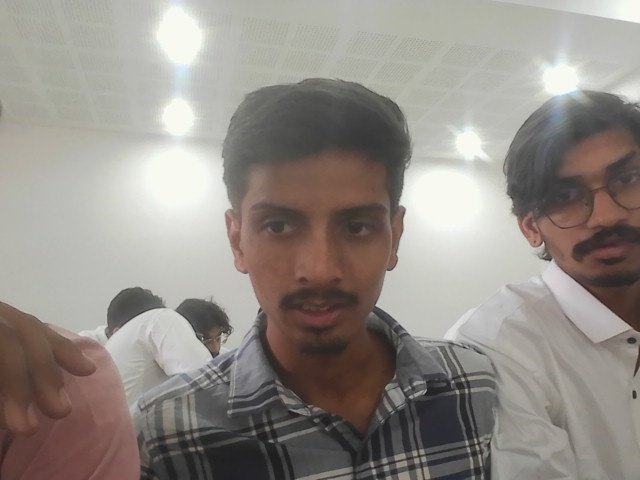light_on: (148, 13, 223, 200), (446, 118, 491, 159), (533, 57, 575, 96)
person: (107, 148, 471, 479), (384, 92, 639, 479), (0, 45, 171, 479), (175, 296, 238, 374)
